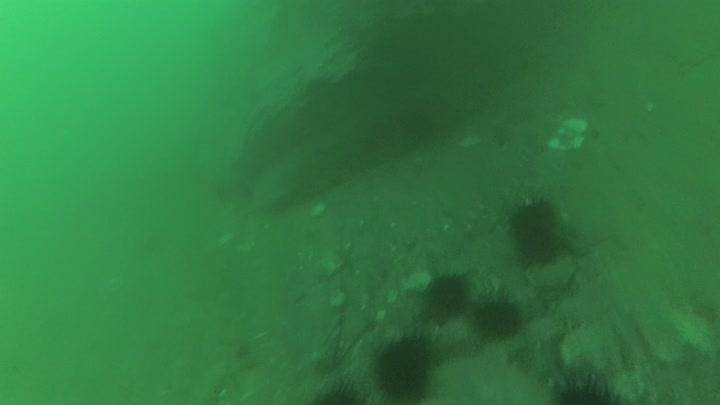echinus: (369, 332, 440, 403), (505, 194, 568, 266), (545, 369, 626, 405), (471, 292, 525, 341), (423, 270, 472, 320), (310, 380, 368, 404)
starfish: (507, 313, 573, 384)
